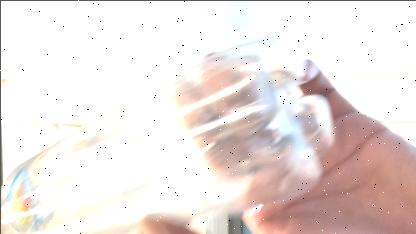Plastic Bottle: (9, 31, 342, 233)
